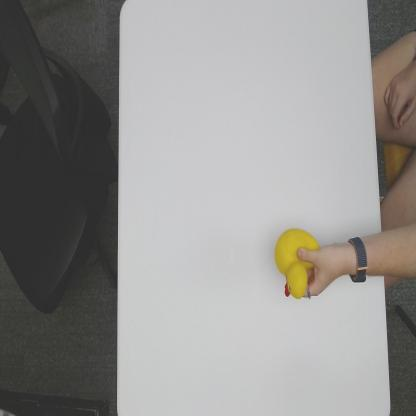Arm: (370, 232, 387, 276)
Duck: (274, 226, 322, 301)
Hand: (296, 242, 345, 301)
